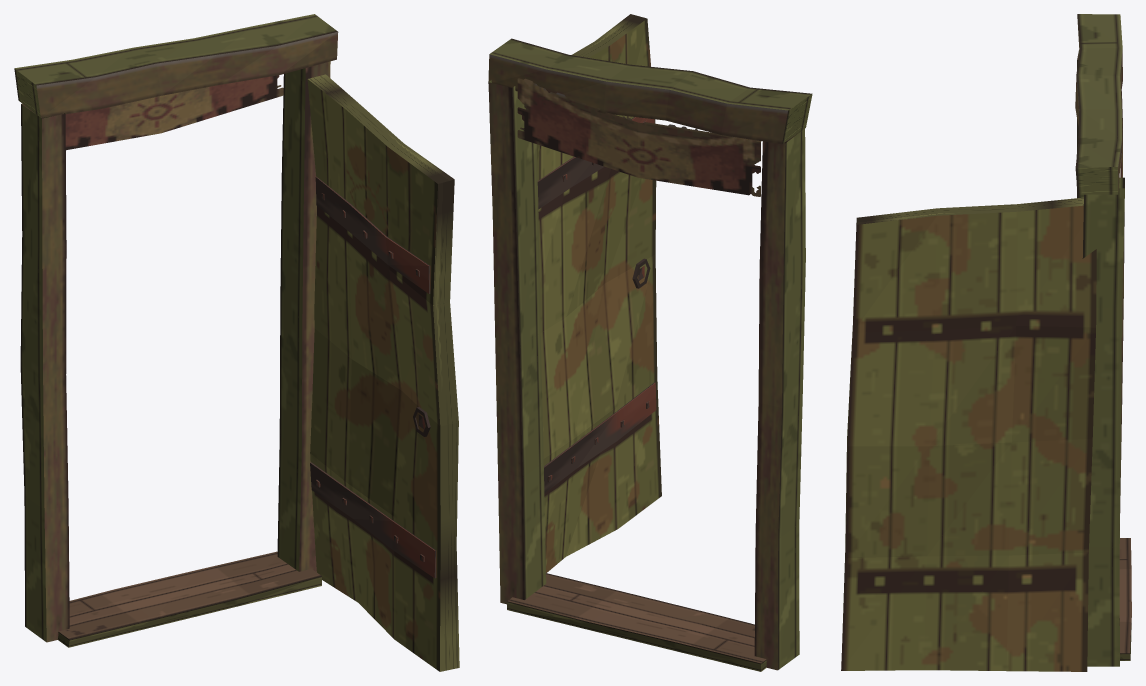
Rendered from SM_EntranceDoor.fbx.
3 renders of one model, left to right at view 1: azimuth 30°, elevation 25°; view 2: azimuth 150°, elevation 25°; view 3: azimuth 270°, elevation 25°, orthographic. The views are drawn at different scales.
Visible parts, largest first — view 1: Door_Leaf, Door_Frame, Door_Bunting; view 2: Door_Frame, Door_Leaf, Door_Bunting; view 3: Door_Leaf, Door_Frame.
Part boxes in pixels (x1,y1,x2,y2): Door_Leaf: (307,74,459,671); Door_Frame: (14,14,338,647); Door_Bunting: (65,75,283,150); Door_Frame: (488,38,812,671); Door_Leaf: (536,14,661,572); Door_Bunting: (517,78,760,196); Door_Leaf: (841,197,1096,671); Door_Frame: (1075,14,1131,666).
Bounding box in the file's own units: 1.38 × 2.44 × 1.23.
